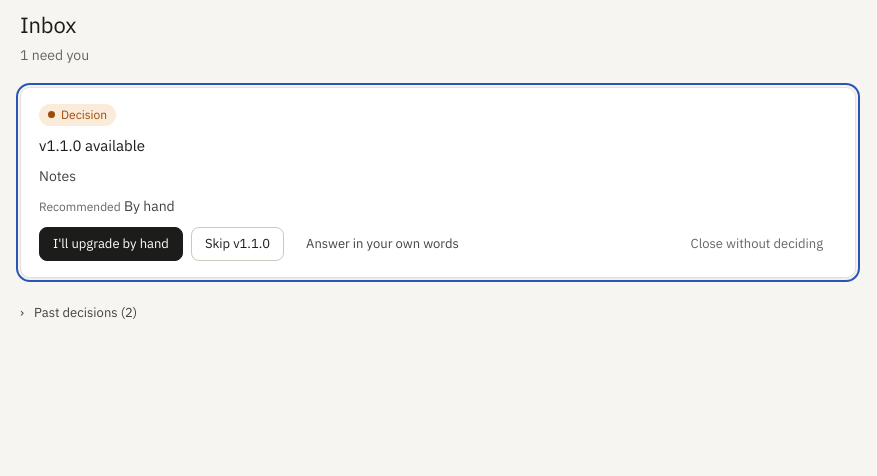
Test case: focuses the addressed decision and explains automatic closures in the inbox
Click the heading "Past decisions (2)" at coordinates (86, 312), box [34,304,137,321]
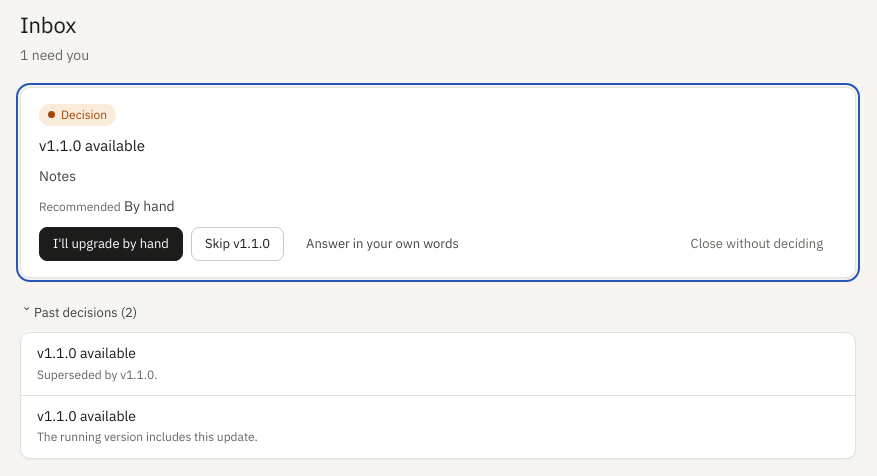
Expected: the text "The running version includes this update." is shown, [37,430,258,444]
Expected: the text "Superseded by v1.1.0." is shown, [37,367,158,382]
